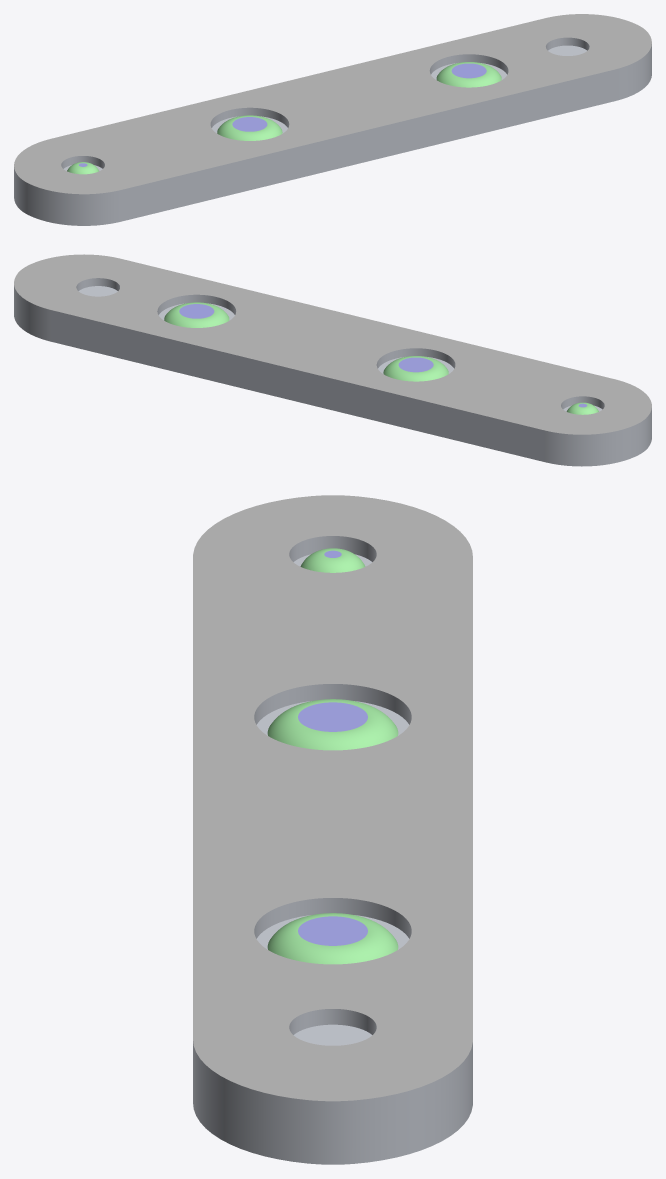
The model's file is depth_camera.dae.
3 views of the same model, one above another, from view 1: azimuth 30°, elevation 25°; view 2: azimuth 150°, elevation 25°; view 3: azimuth 270°, elevation 25° (orthographic). The views are drawn at different scales.
Visible parts, largest first — view 1: depth_camera; view 2: depth_camera; view 3: depth_camera.
Boxes of the visible parts, x1,y1,x2,y2 form: depth_camera: [14, 14, 651, 225]; depth_camera: [14, 254, 651, 466]; depth_camera: [193, 495, 472, 1164].
Size of the model in its own units: 0.0819 by 0.016 by 0.004.
